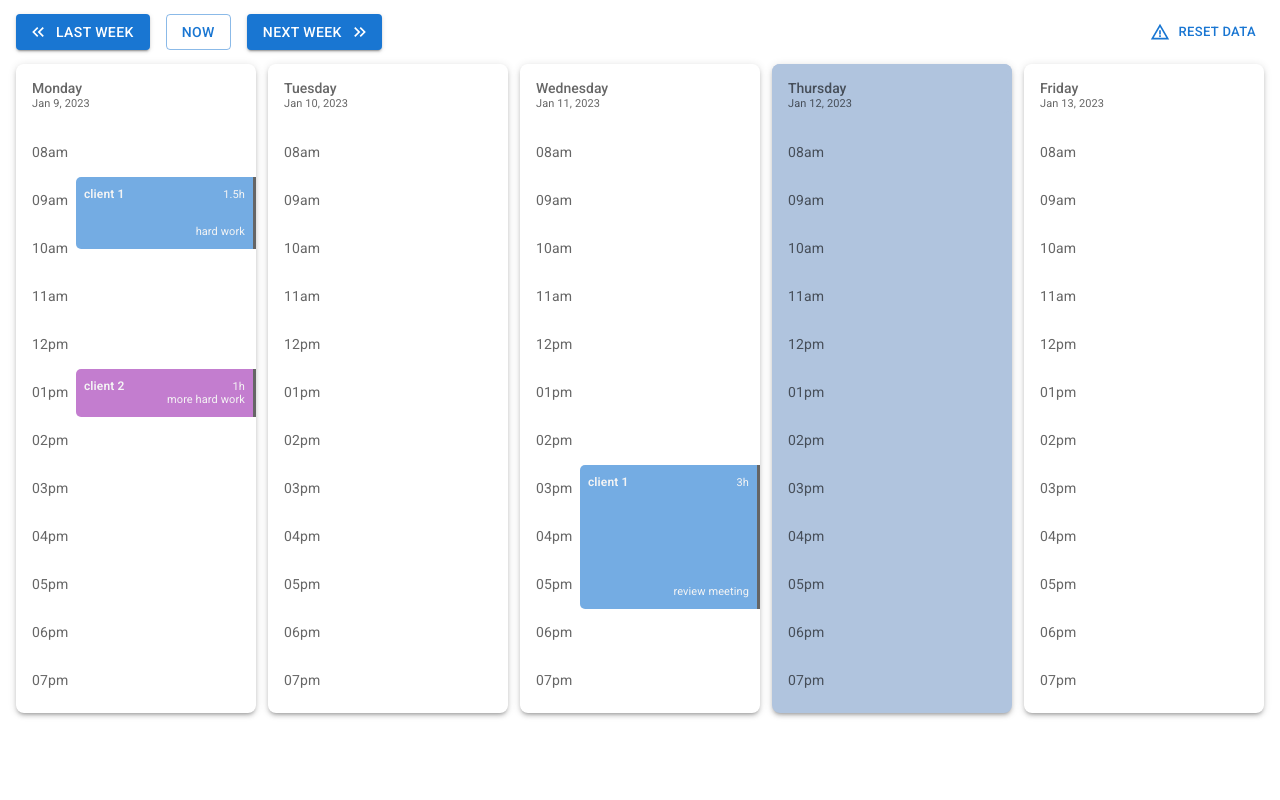
Calendar › adds an entry when submitting the form
The image size is (1280, 800).
Click the button "09am" in the row of "1.5". click: [50, 200]
box: x1=32 y1=192 x2=68 y2=208
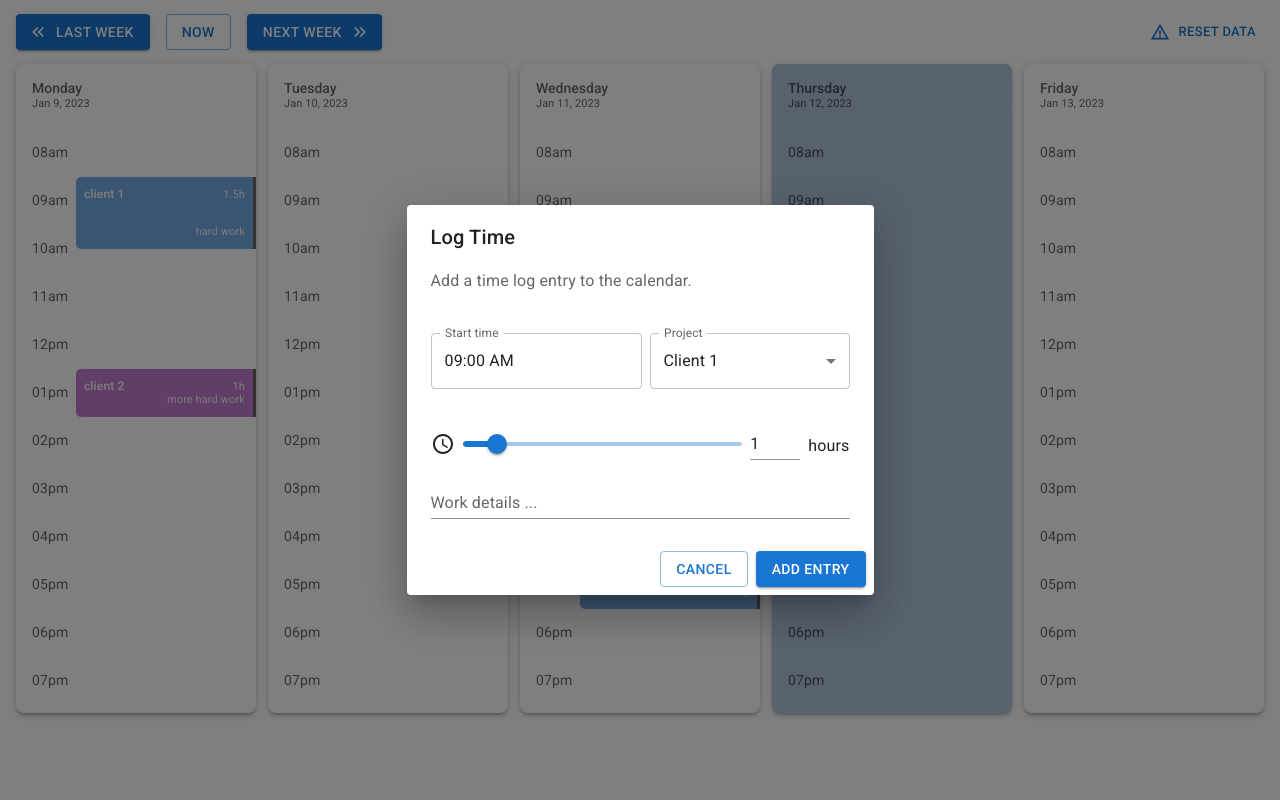
Click the button "Add entry". click: [811, 569]
box: x1=756 y1=551 x2=866 y2=587
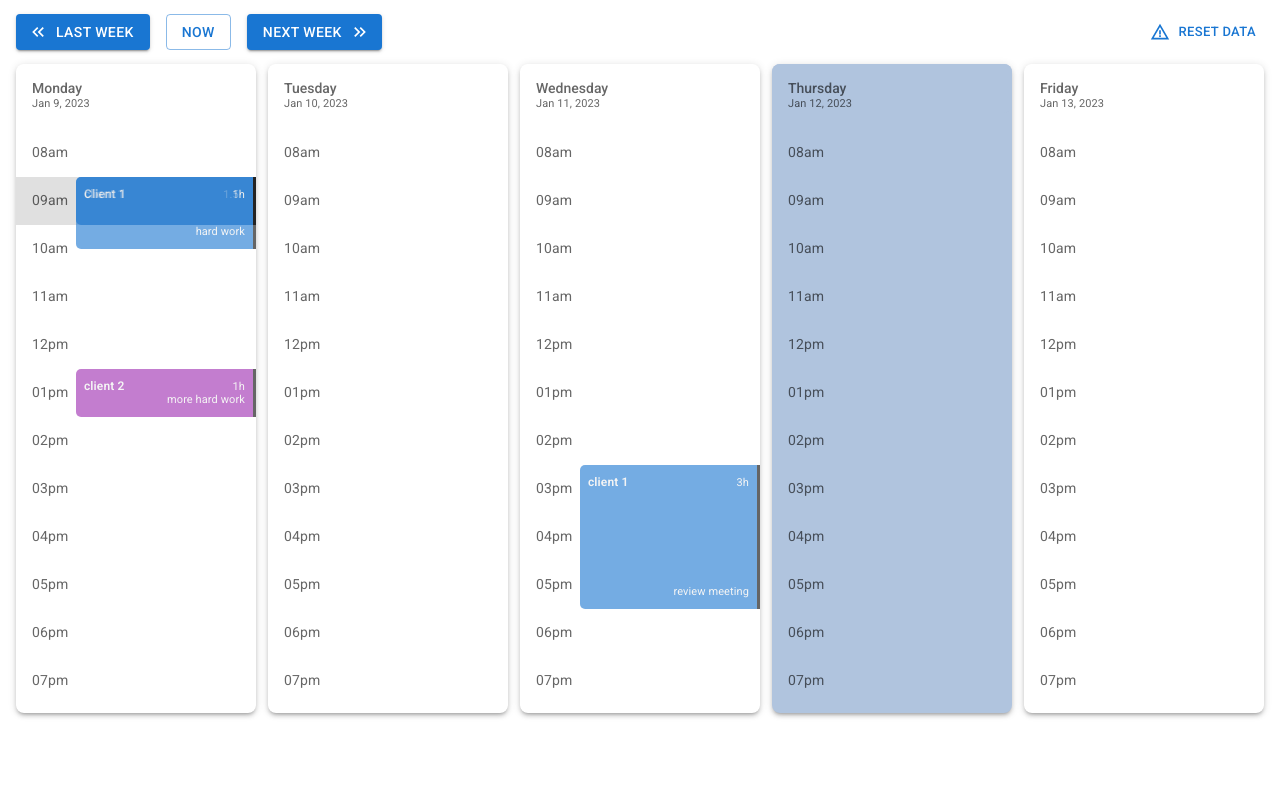
Expected: the text "client 1" is shown 3 times, x1=84 y1=184 x2=124 y2=202; x1=84 y1=184 x2=126 y2=202; x1=588 y1=472 x2=628 y2=490
Expected: the heading "Log Time" is gone
